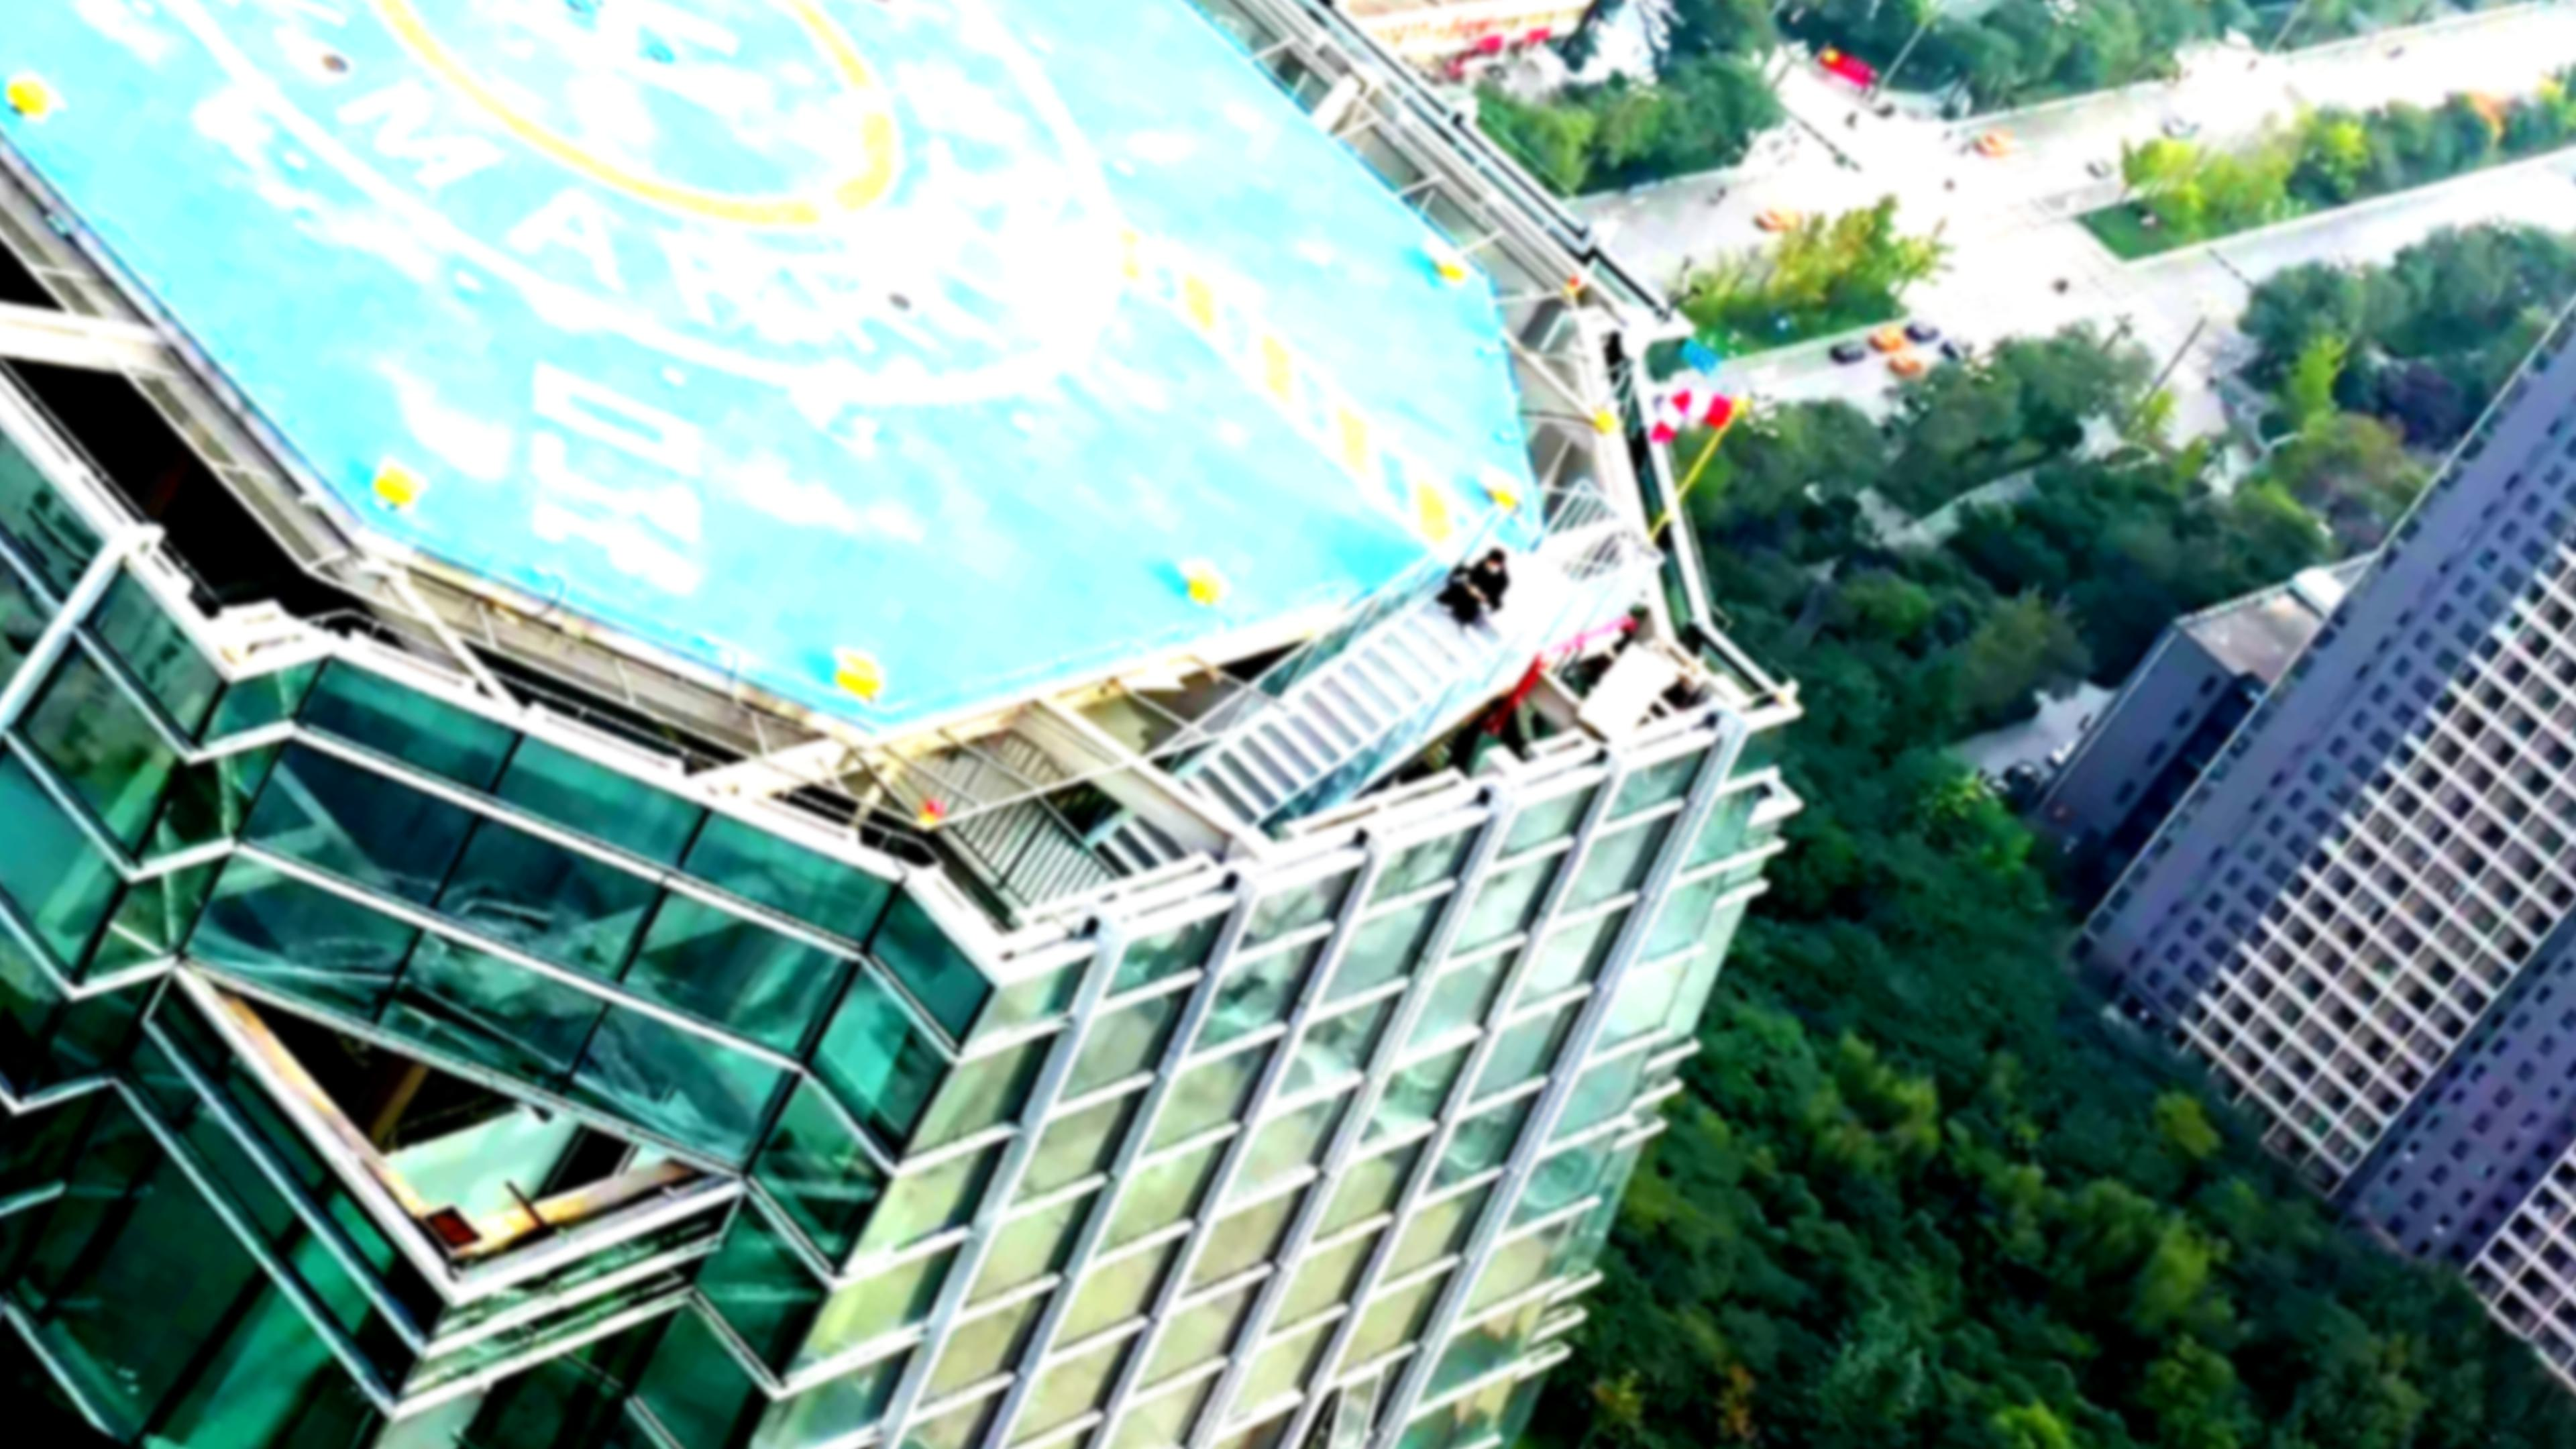Apron: (317, 0, 950, 267)
